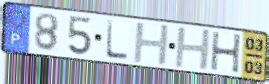5: (67, 14, 92, 57)
8: (32, 13, 62, 53)
H: (173, 27, 213, 72), (132, 22, 171, 67), (210, 31, 243, 75)
L: (104, 19, 131, 62)
